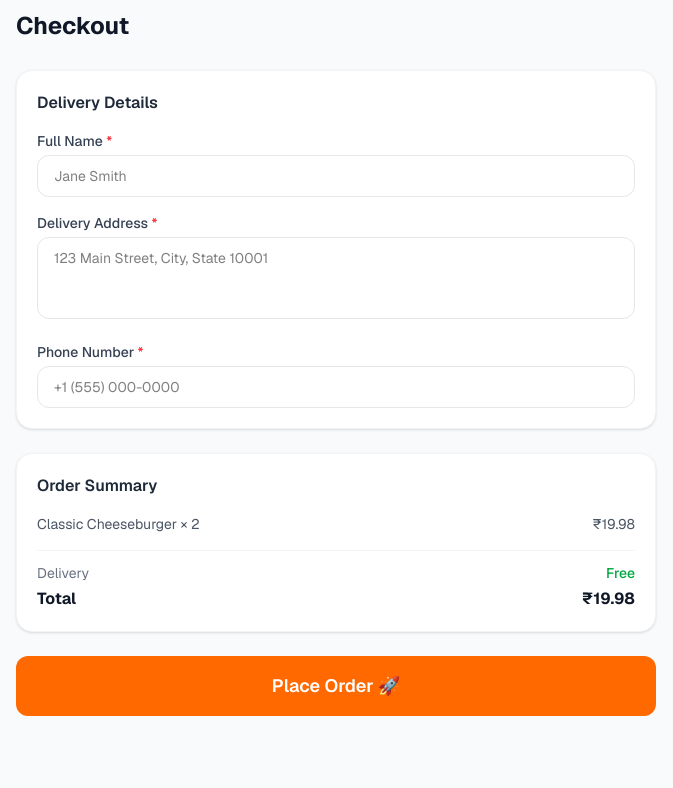
Test: CheckoutPage › shows validation errors when fields are empty
Click the button "Place Order 🚀" at (336, 686), box [16,656,656,716]
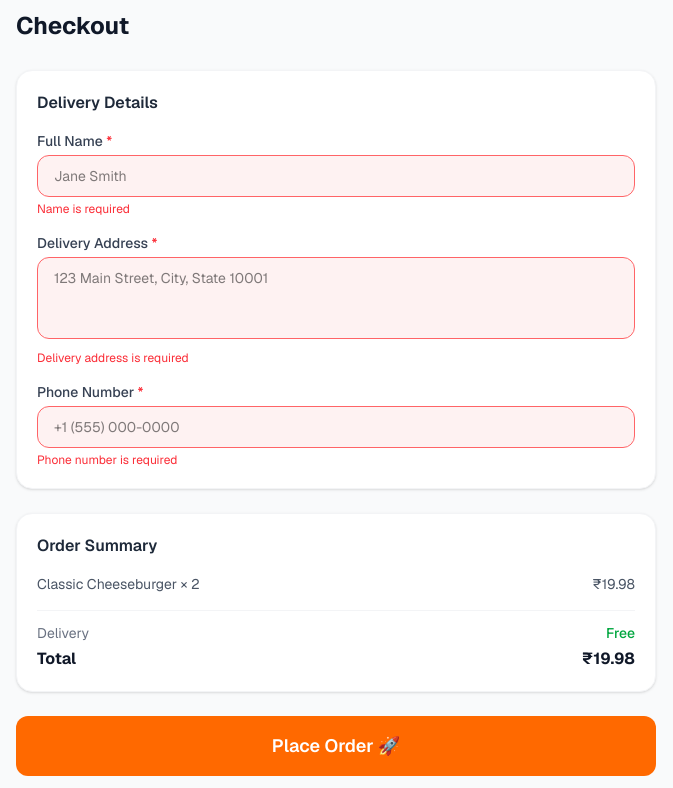
Expected: the text "Name is required" is shown, [37,201,130,217]
Expected: the text "Delivery address is required" is shown, [37,350,189,366]
Expected: the text "Phone number is required" is shown, [37,452,177,468]
